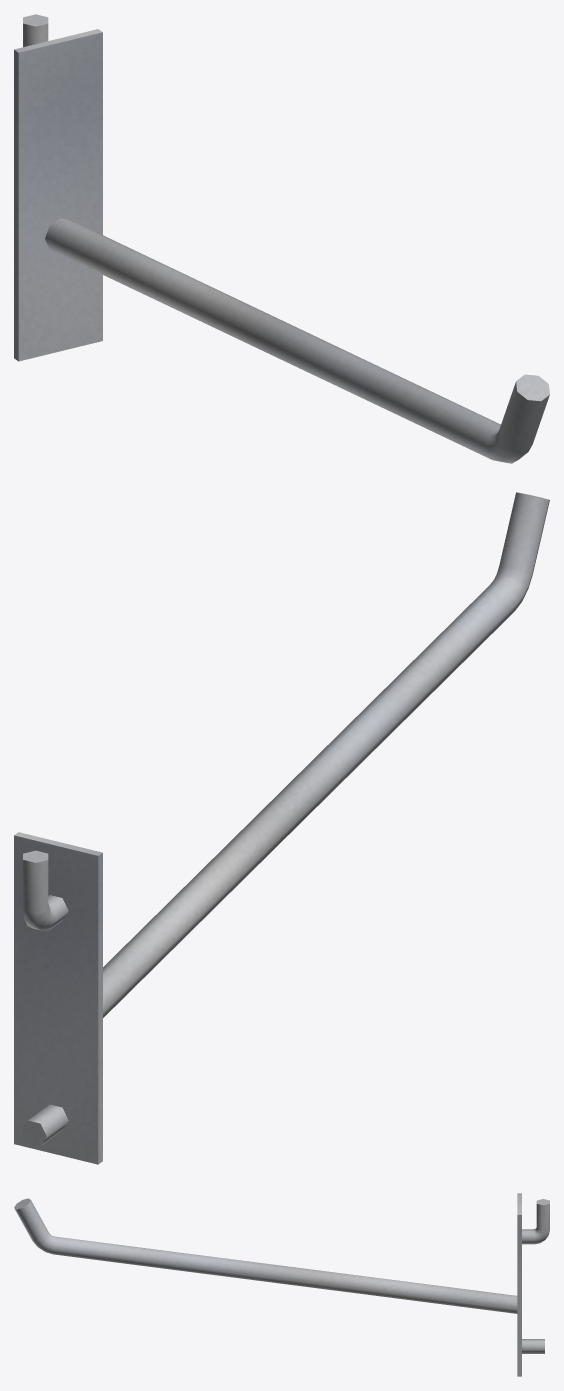
The model's file is haken_lang.obj.
3 renders of one model, top to bottom at view 1: azimuth 30°, elevation 25°; view 2: azimuth 150°, elevation 25°; view 3: azimuth 270°, elevation 25°, orthographic. The views are drawn at different scales.
Visible parts, largest first — view 1: Vorlage_Haken_lang; view 2: Vorlage_Haken_lang; view 3: Vorlage_Haken_lang.
Boxes of the visible parts, <box> form: Vorlage_Haken_lang: <box>14,14,549,463</box>; Vorlage_Haken_lang: <box>14,492,549,1164</box>; Vorlage_Haken_lang: <box>14,1193,549,1376</box>.
Size of the model in its own units: 0.016 by 0.0574 by 0.1683.
Materials: 1 (1 with a texture image).
